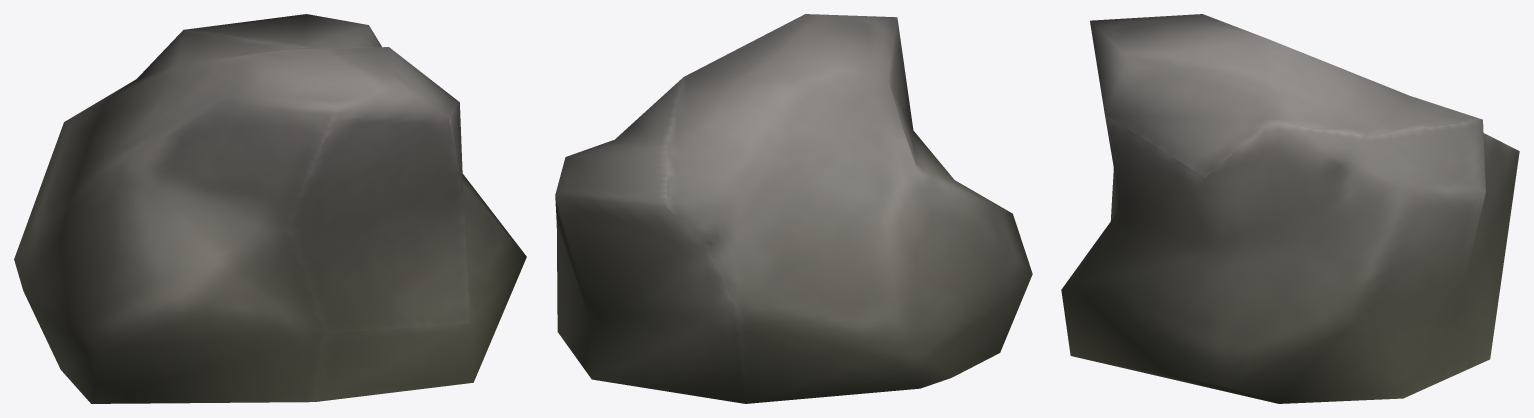
Rendered from Stones_Medium_08.FBX.
3 views of the same model, side by side, from view 1: azimuth 30°, elevation 25°; view 2: azimuth 150°, elevation 25°; view 3: azimuth 270°, elevation 25° (orthographic). The views are drawn at different scales.
Parts seen in each view (by area): view 1: Stones_Medium_08; view 2: Stones_Medium_08; view 3: Stones_Medium_08.
Part boxes in pixels (box(x1,y1,x2,y2)): Stones_Medium_08: box(14, 14, 526, 403); Stones_Medium_08: box(555, 14, 1032, 403); Stones_Medium_08: box(1061, 14, 1519, 403).
Bounding box in the file's own units: 559 × 340 × 512.
